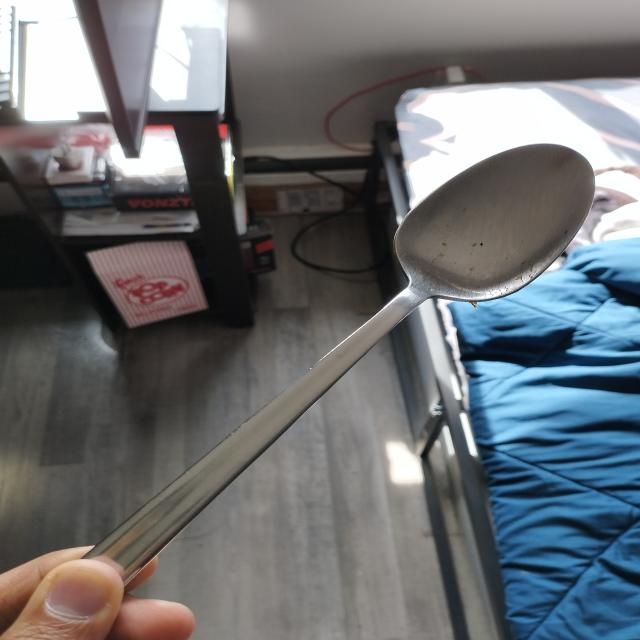Spoon: (54, 145, 630, 597)
